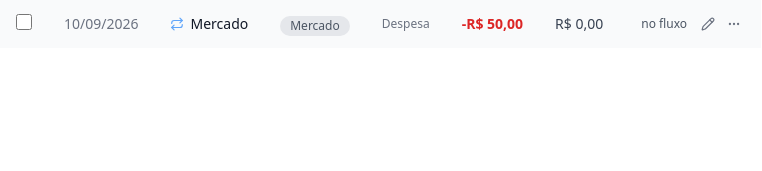
Scenario: menu de ações da linha › o menu lista as ações e executa a escolhida
The width and height of the screenshot is (762, 171).
Click the button named "Mais ações". click: (734, 24)
box: 723,13 -> 745,35
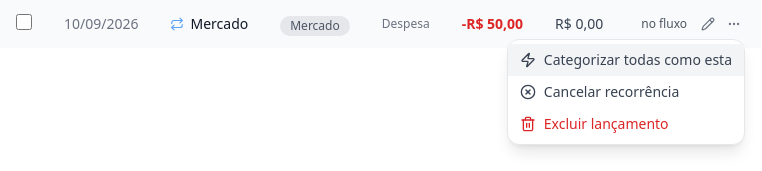
Expected: the menu items read "Categorizar todas como esta", "Cancelar recorrência", "Excluir lançamento", in this order
Click the menu item "Excluir lançamento". click: (626, 124)
box: 508,108 -> 744,140
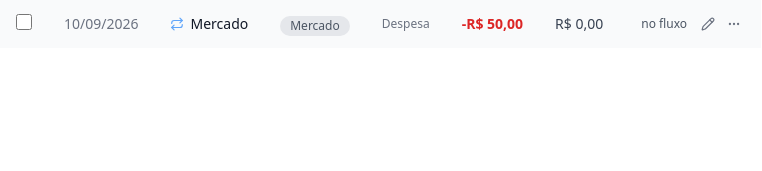
Expected: the menu is gone
